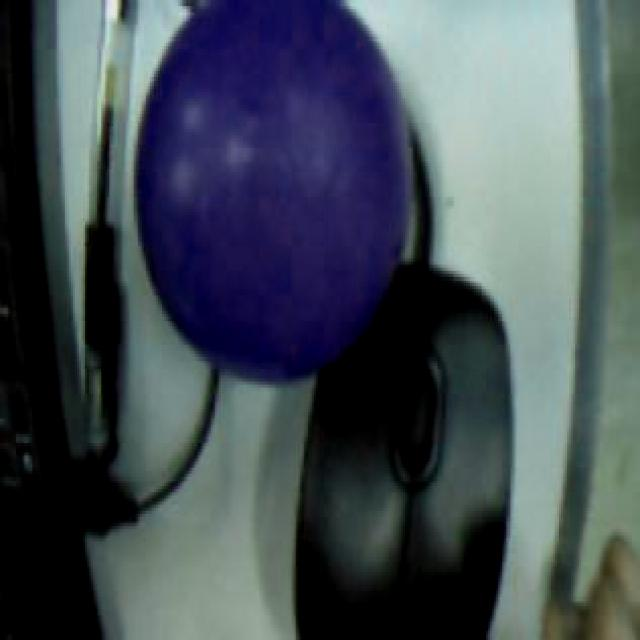BallPurple: (132, 0, 409, 382)
